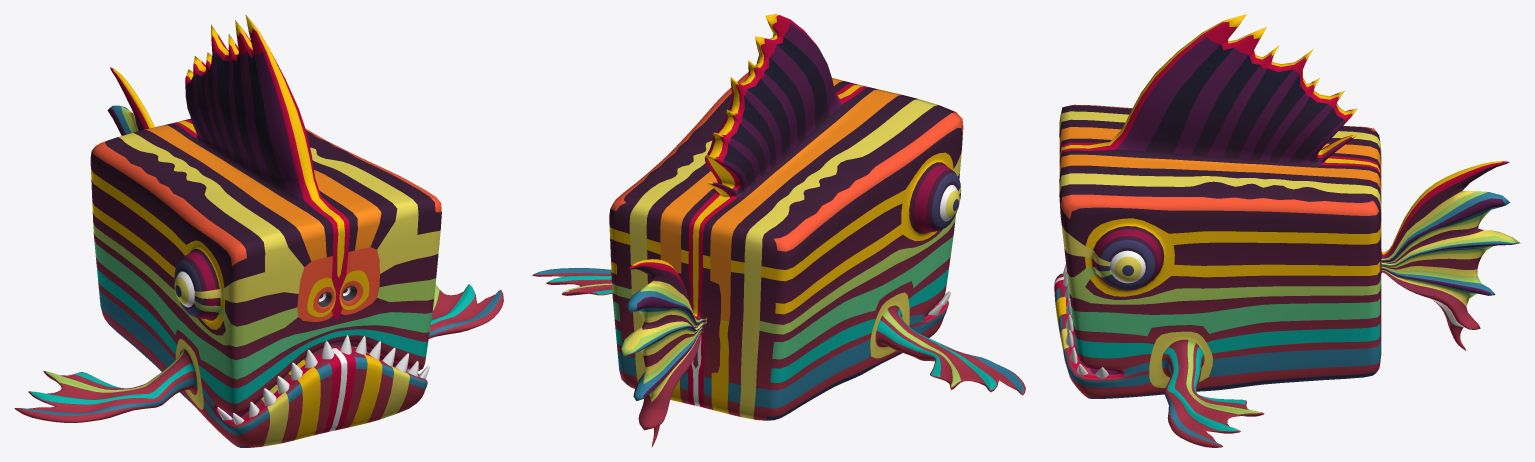
3 views of the same model, side by side, from view 1: azimuth 30°, elevation 25°; view 2: azimuth 150°, elevation 25°; view 3: azimuth 270°, elevation 25° (orthographic). The views are drawn at different scales.
Visible parts, largest first — view 1: polySurface87; view 2: polySurface87; view 3: polySurface87.
Part boxes in pixels (box(x1,y1,x2,y2)): polySurface87: box(14, 14, 503, 447); polySurface87: box(532, 14, 1025, 447); polySurface87: box(1054, 14, 1520, 447).
Size of the model in its own units: 67.43 by 47.47 by 57.5.
2 materials, 2 textured.
